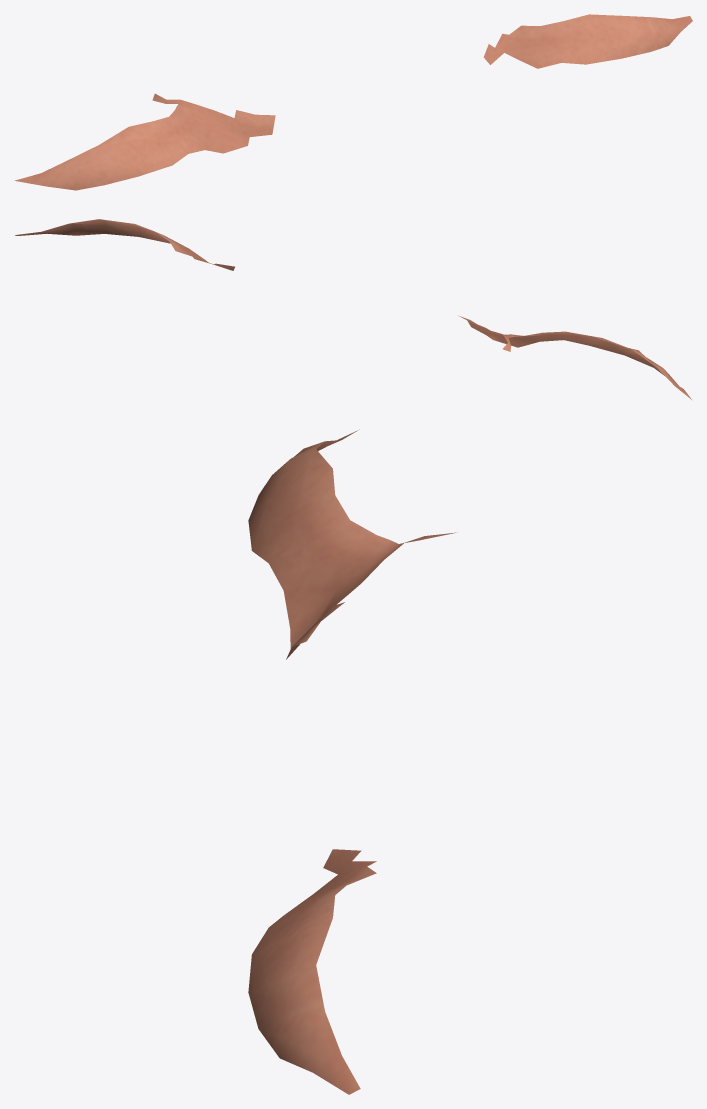
File: shoulders_front.glb
The picture shows the model from 3 angles, top to bottom: view 1: azimuth 30°, elevation 25°; view 2: azimuth 150°, elevation 25°; view 3: azimuth 270°, elevation 25°; orthographic projection. The views are drawn at different scales.
Parts seen in each view (by area): view 1: shoulders_front; view 2: shoulders_front; view 3: shoulders_front.
Part boxes in pixels (x1,y1,x2,y2): shoulders_front: [14, 14, 692, 190]; shoulders_front: [15, 219, 692, 400]; shoulders_front: [248, 429, 457, 1094].
Size of the model in its own units: 0.0663 by 0.00371 by 0.00893.
Materials: 1 (1 with a texture image).
